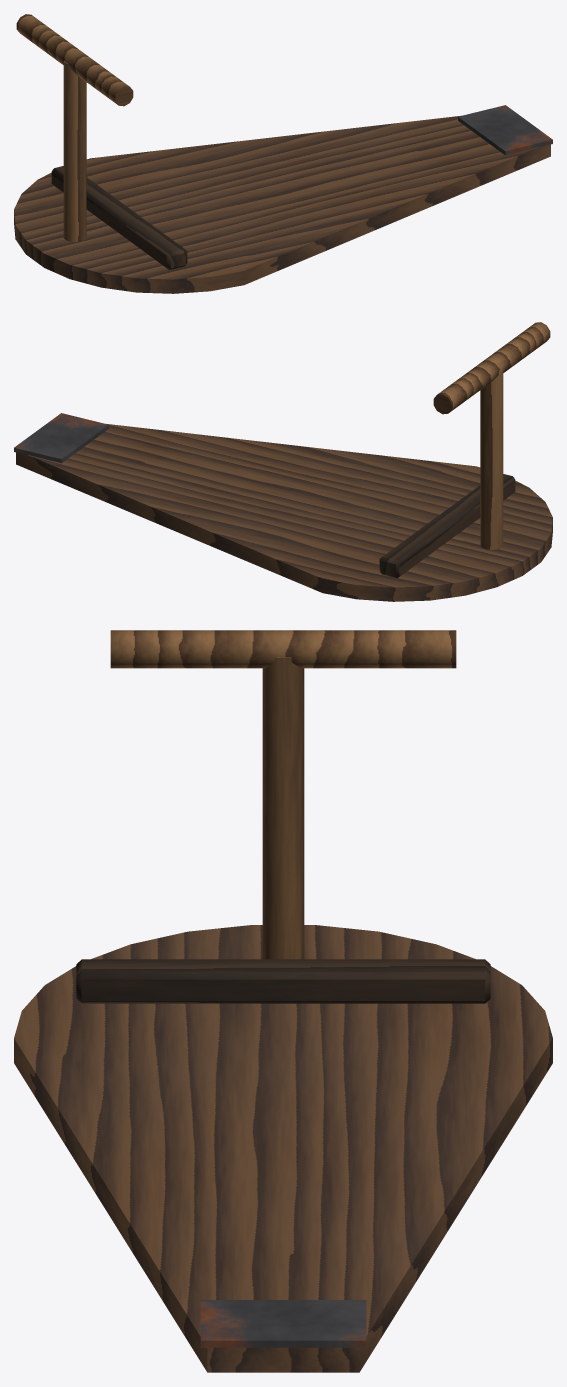
File: SM_Bellows_Top.glb
The picture shows the model from 3 angles, top to bottom: view 1: azimuth 30°, elevation 25°; view 2: azimuth 150°, elevation 25°; view 3: azimuth 270°, elevation 25°; orthographic projection. The views are drawn at different scales.
Parts seen in each view (by area): view 1: SM_Bellows_Top; view 2: SM_Bellows_Top; view 3: SM_Bellows_Top.
Part boxes in pixels (box(x1,y1,x2,y2)): SM_Bellows_Top: box(14, 14, 552, 293); SM_Bellows_Top: box(14, 322, 552, 601); SM_Bellows_Top: box(14, 630, 552, 1372).
Size of the model in its own units: 1.45 by 0.563 by 0.78.
Materials: 1 (1 with a texture image).
